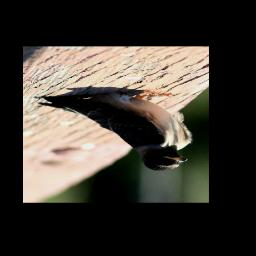Swallow: (36, 89, 193, 172)
